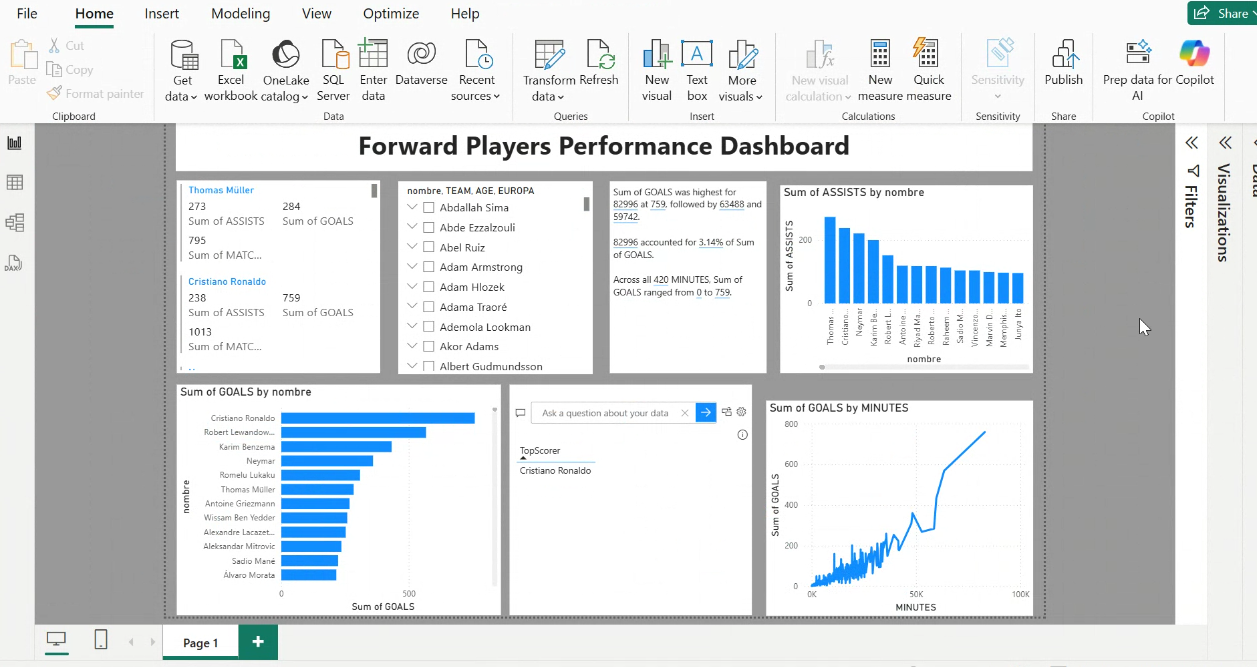

The page's visual inventory and layout, read from the dashboard file:
{"tool":"powerbi","page":{"name":"Page 1","canvas":[1280,720],"ordinal":0},"visuals":[{"type":"textbox","box":[646.9,85,228.7,279.7],"z":0},{"type":"slicer","fields":{"Values":["Dataset (2).nombre","Dataset (2).TEAM","Dataset (2).AGE","Dataset (2).EUROPA"]},"box":[338.9,85,283.5,281.6],"z":1000},{"type":"barChart","fields":{"Category":["Dataset (2).nombre"],"Y":["Dataset (2).GOALS"]},"box":[15.7,381.7,472.4,336.4],"z":2000},{"type":"lineChart","fields":{"Y":["Dataset (2).GOALS"],"Category":["Dataset (2).MINUTES"]},"box":[875.6,404.4,389.3,313.7],"z":3000},{"type":"multiRowCard","fields":{"Values":["Dataset (2).ASSISTS","Dataset (2).GOALS","Dataset (2).MATCHES","Dataset (2).nombre"]},"box":[15.7,83.2,296.7,281.6],"z":4000},{"type":"clusteredColumnChart","fields":{"Category":["Dataset (2).nombre"],"Y":["Dataset (2).ASSISTS"]},"box":[896.4,90.7,368.5,274],"z":5000},{"type":"qnaVisual","box":[501.4,381.7,353.4,336.4],"z":6000},{"type":"textbox","box":[15.1,0,1249.1,69.9],"z":7000}]}

Visuals, with their boxes on the page's 1280x720 design canvas (x1, y1, x2, y2). These are canvas units, not pixel positions in the 1257x667 screenshot, which may show the page scaled, cropped or inside an application window:
textbox: pyautogui.locateOnScreen(647, 85, 876, 365)
slicer - Dataset (2).nombre x Dataset (2).TEAM: pyautogui.locateOnScreen(339, 85, 622, 367)
barChart - Dataset (2).nombre x Dataset (2).GOALS: pyautogui.locateOnScreen(16, 382, 488, 718)
lineChart - Dataset (2).GOALS x Dataset (2).MINUTES: pyautogui.locateOnScreen(876, 404, 1265, 718)
multiRowCard - Dataset (2).ASSISTS x Dataset (2).GOALS: pyautogui.locateOnScreen(16, 83, 312, 365)
clusteredColumnChart - Dataset (2).nombre x Dataset (2).ASSISTS: pyautogui.locateOnScreen(896, 91, 1265, 365)
qnaVisual: pyautogui.locateOnScreen(501, 382, 855, 718)
textbox: pyautogui.locateOnScreen(15, 0, 1264, 70)
